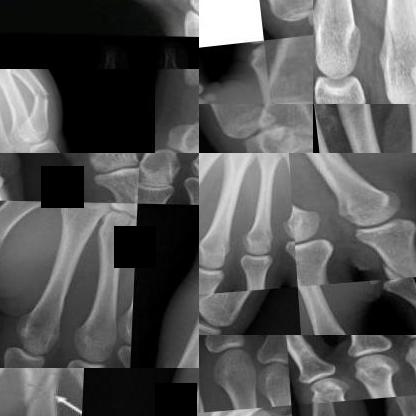fracture: (13, 368, 74, 410), (371, 0, 408, 67), (274, 0, 313, 27), (385, 256, 415, 285), (27, 82, 54, 111)
